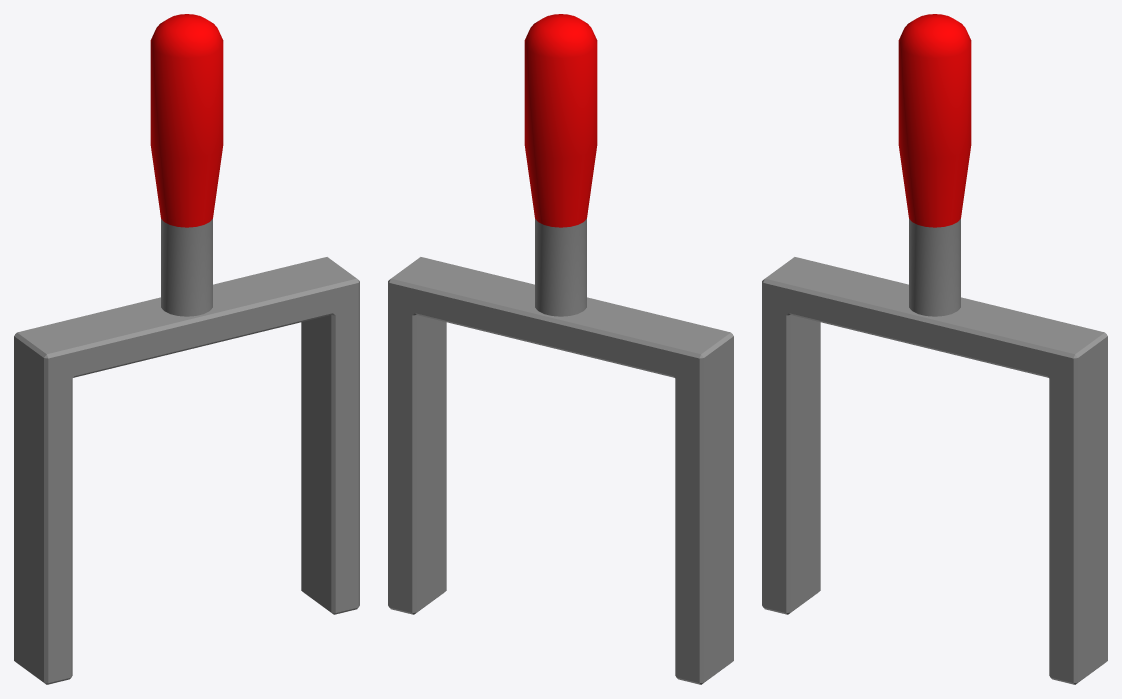
File: 25_lever.FBX
The picture shows the model from 3 angles, left to right: view 1: azimuth 30°, elevation 25°; view 2: azimuth 150°, elevation 25°; view 3: azimuth 330°, elevation 25°; orthographic projection.
Parts seen in each view (by area): view 1: Box04; view 2: Box04; view 3: Box04.
Boxes of the visible parts, x1,y1,x2,y2 form: Box04: (14, 14, 359, 684); Box04: (388, 14, 733, 684); Box04: (762, 14, 1107, 684).
Bounding box in the file's own units: 11 × 20.55 × 2.18.
